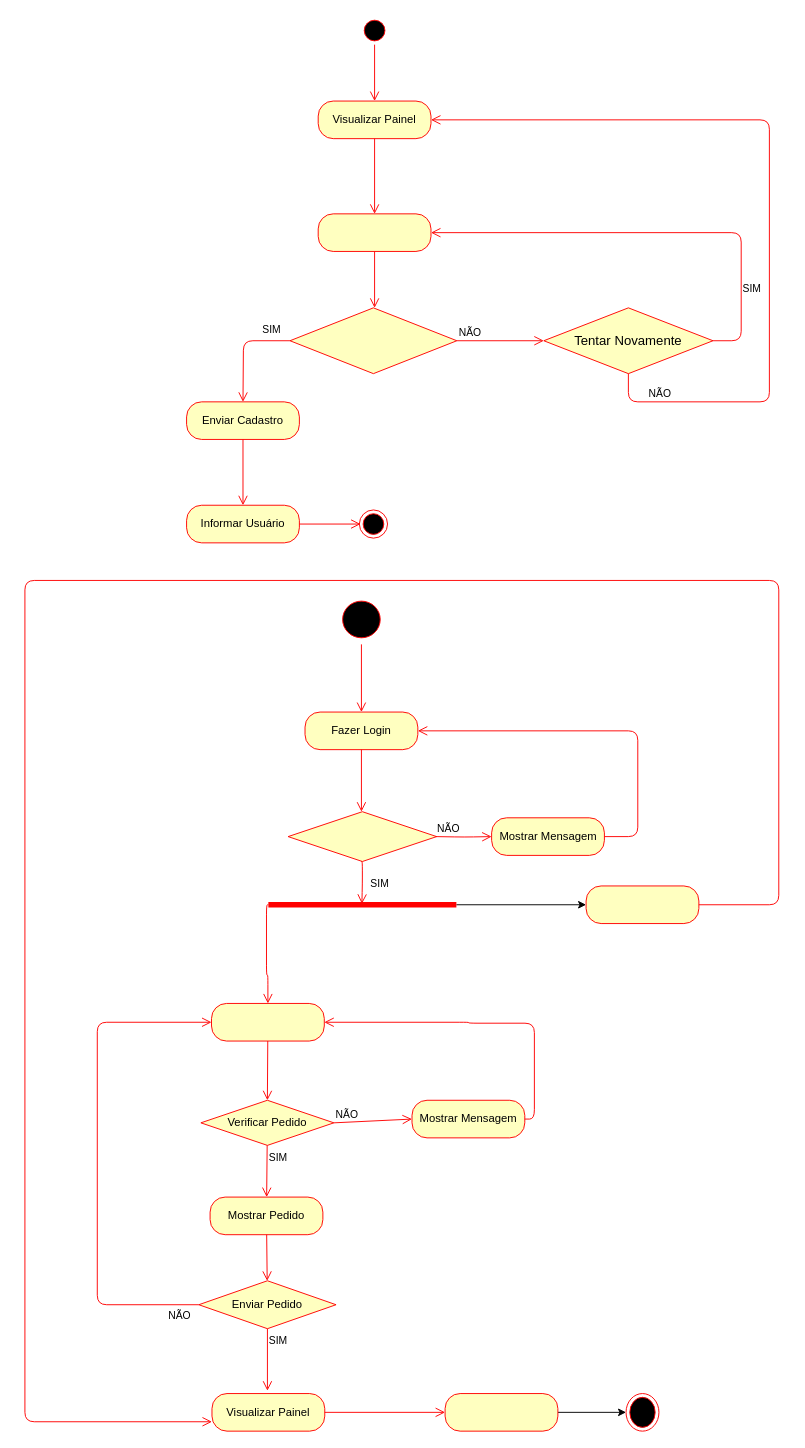
Some shapes in this 805 by 1448 pixel diagram are drawn without their labels. Here are the shapes that lost their labels. From the top down, the centre of each, then its label:
point (374, 232): Fazer Cadastro
point (373, 340): Verificar Cadastro
point (362, 836): Verificar Dados
point (642, 904): Cancelar Pedido
point (267, 1022): Fazer Pedido
point (501, 1412): Fazer Logout
